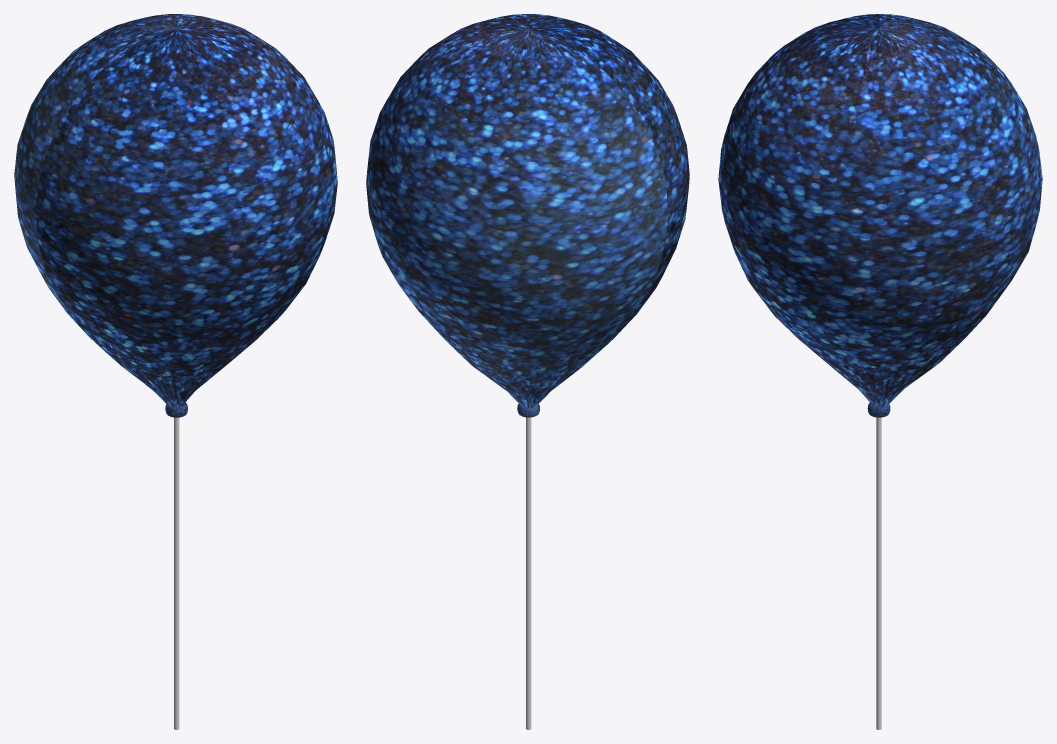
File: balloon_blue_3.glb
3 renders of one model, left to right at view 1: azimuth 30°, elevation 25°; view 2: azimuth 150°, elevation 25°; view 3: azimuth 270°, elevation 25°, orthographic.
Parts seen in each view (by area): view 1: Sphere.004, Cylinder.004; view 2: Sphere.004, Cylinder.004; view 3: Sphere.004, Cylinder.004.
Part boxes in pixels (bbox=[...]): Sphere.004: bbox=[14, 14, 337, 407]; Cylinder.004: bbox=[174, 417, 179, 729]; Sphere.004: bbox=[366, 14, 689, 407]; Cylinder.004: bbox=[526, 417, 531, 729]; Sphere.004: bbox=[718, 14, 1042, 407]; Cylinder.004: bbox=[876, 417, 881, 729].
Bounding box in the file's own units: 2 × 4.76 × 2.
Materials: 2 (2 with a texture image).
